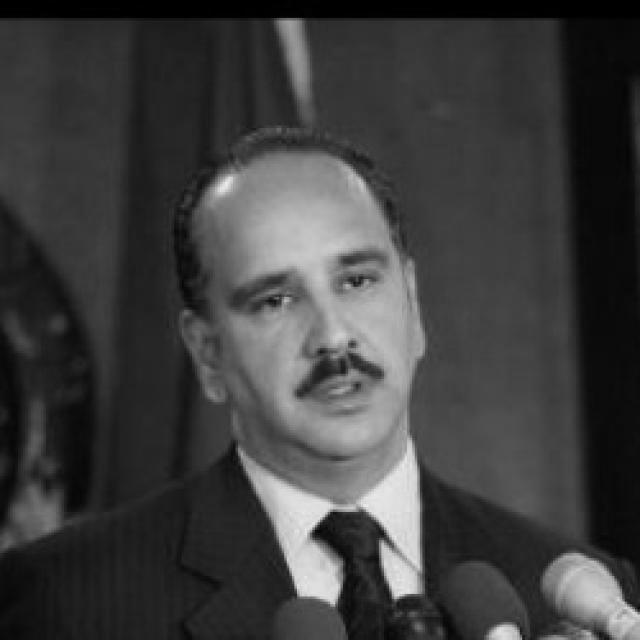real: (199, 156, 429, 463), (212, 248, 412, 321)
